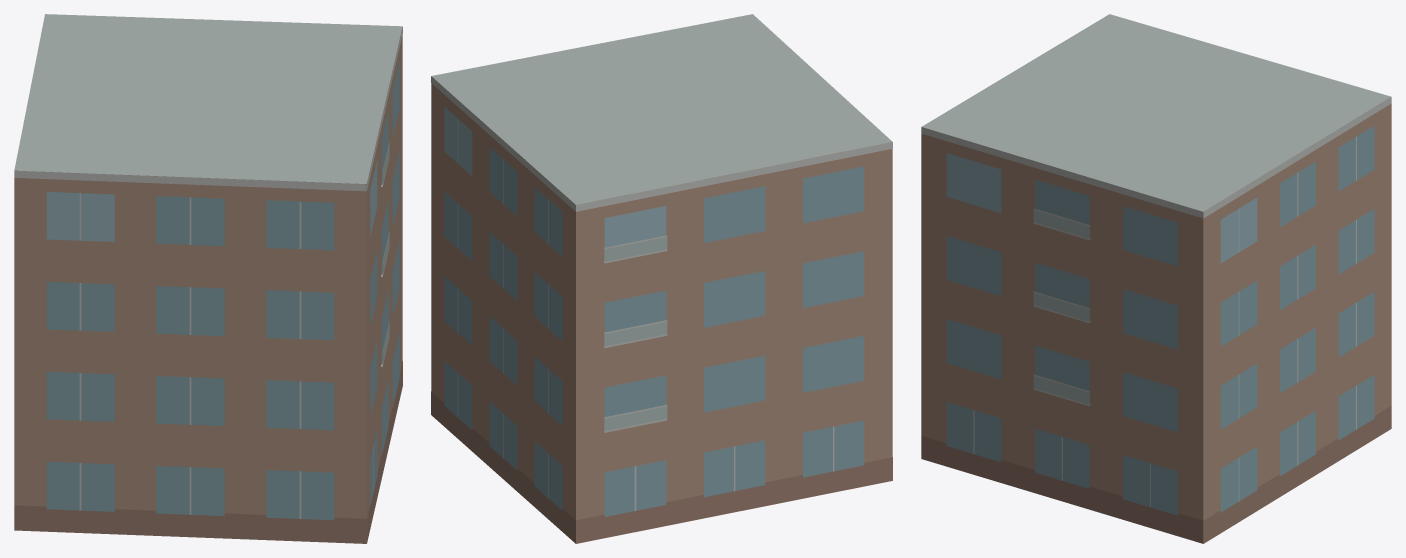
The model's file is survey-upis-32860690.glb.
The picture shows the model from 3 angles, left to right: view 1: azimuth 30°, elevation 25°; view 2: azimuth 150°, elevation 25°; view 3: azimuth 270°, elevation 25°; orthographic projection. The views are drawn at different scales.
Parts seen in each view (by area): view 1: survey-upis-32860690.tmp; view 2: survey-upis-32860690.tmp; view 3: survey-upis-32860690.tmp.
Boxes of the visible parts, x1,y1,x2,y2 form: survey-upis-32860690.tmp: [14, 14, 402, 543]; survey-upis-32860690.tmp: [431, 14, 892, 543]; survey-upis-32860690.tmp: [921, 14, 1391, 543].
Size of the model in its own units: 15.47 by 12.1 by 15.54.
